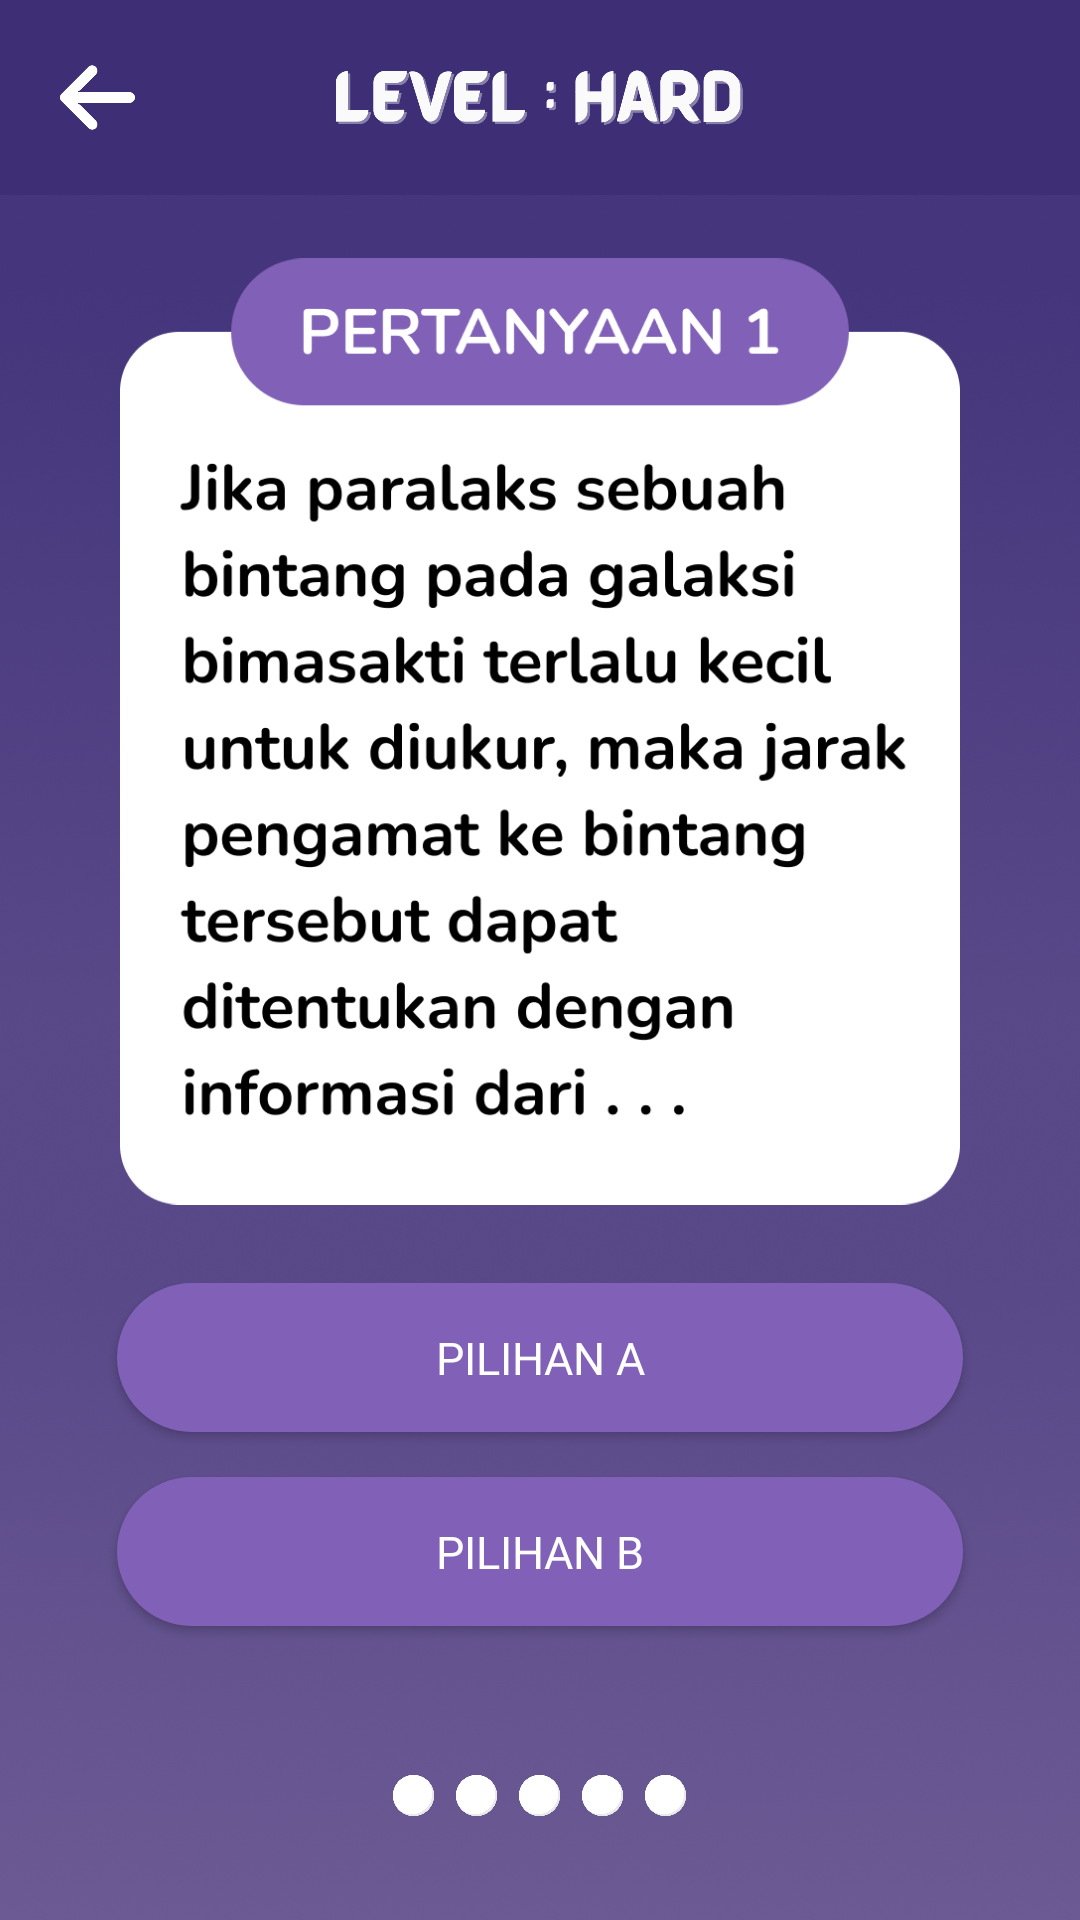

Screen size 1080w x 1920h. Icon name, then its center in pixels as [x,y]:
back: [97,97]
